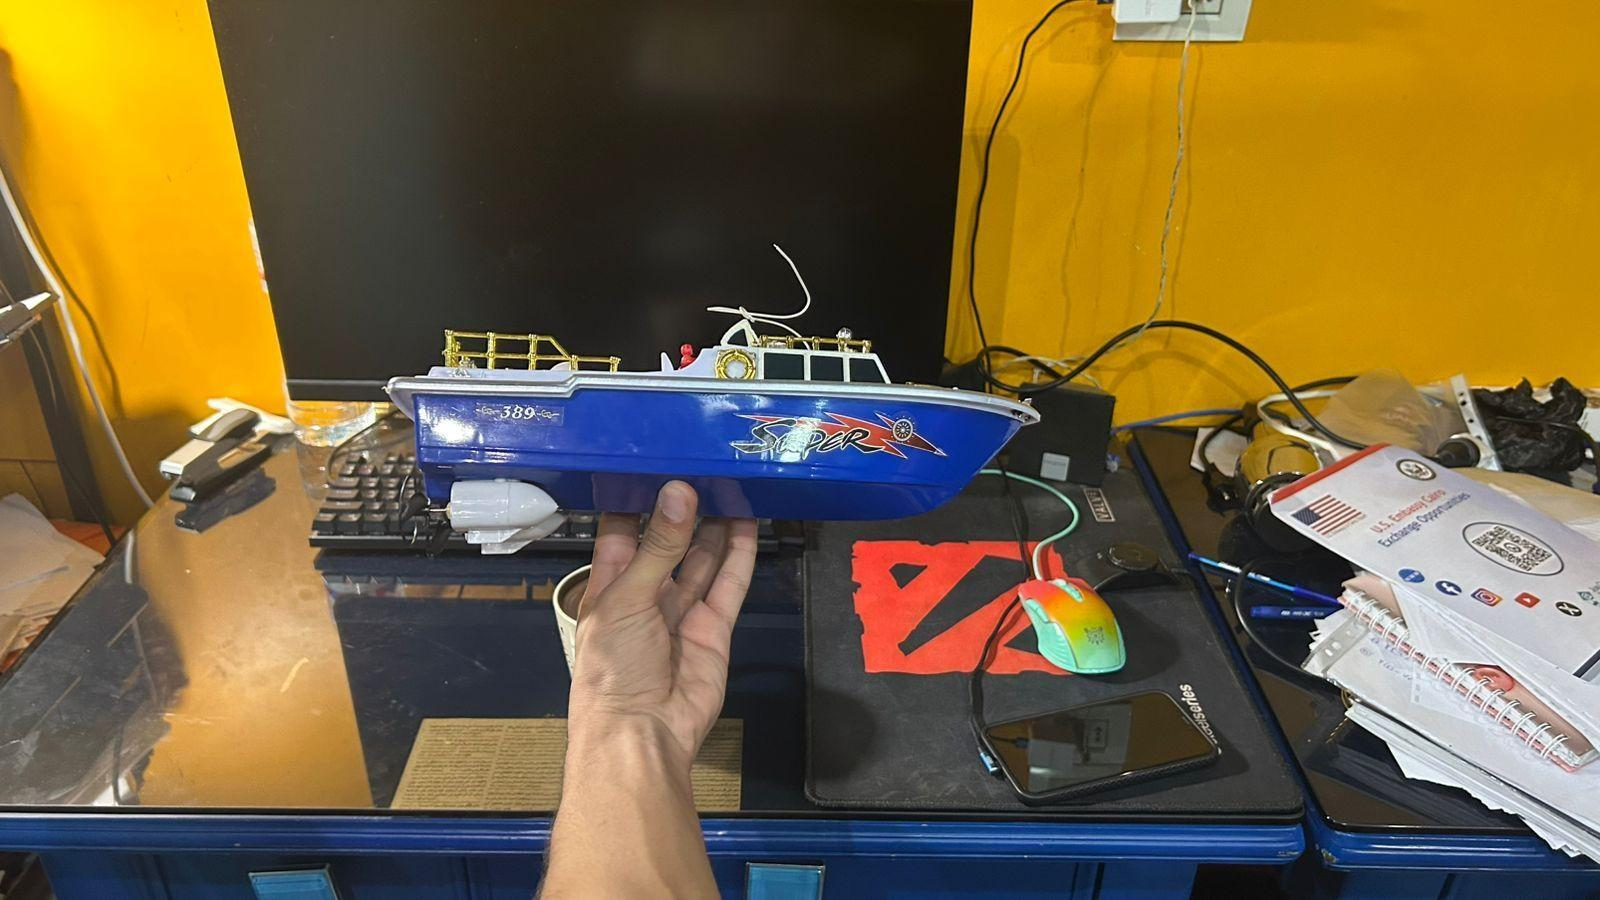Boat: (377, 295, 1052, 553)
